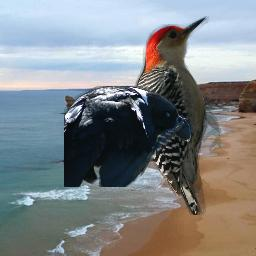Crow: (64, 86, 193, 187)
Woodpecker: (132, 16, 221, 215)
